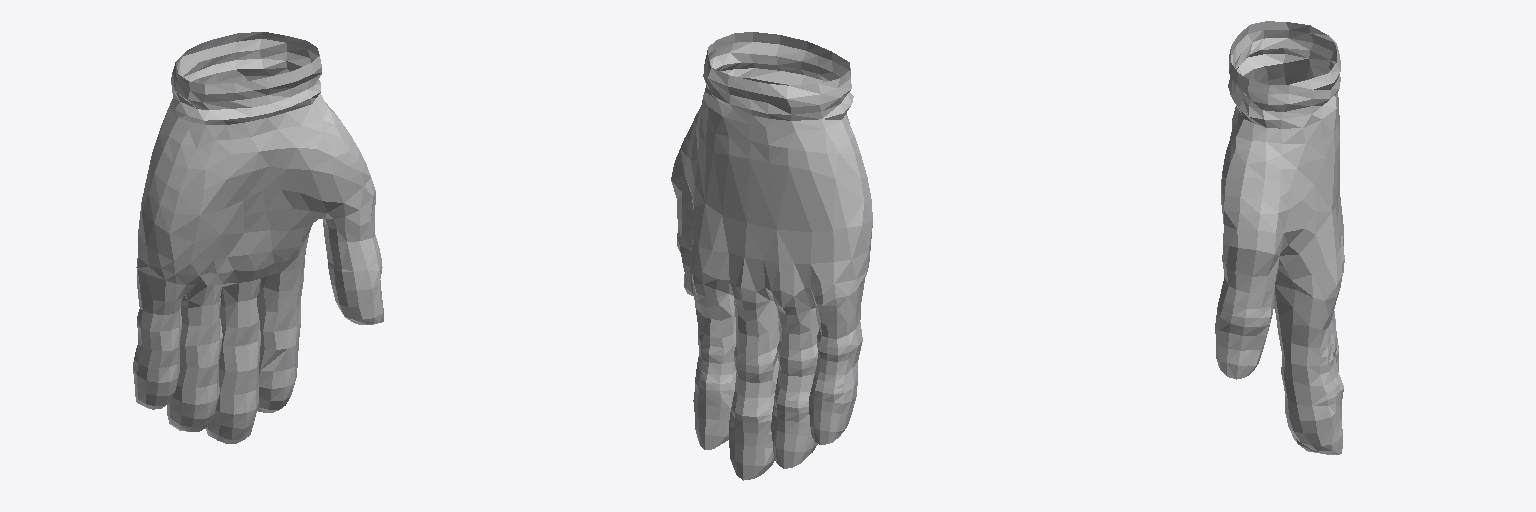
The model's file is push hand.obj.
The picture shows the model from 3 angles: view 1: azimuth 30°, elevation 25°; view 2: azimuth 150°, elevation 25°; view 3: azimuth 270°, elevation 25°; orthographic projection.
Visible parts, largest first — view 1: polygon0; view 2: polygon0; view 3: polygon0.
Part boxes in pixels (x1,y1,x2,y2): polygon0: (133, 32, 383, 443); polygon0: (671, 32, 872, 480); polygon0: (1215, 21, 1344, 454).
Size of the model in its own units: 31.28 by 56.92 by 16.72.